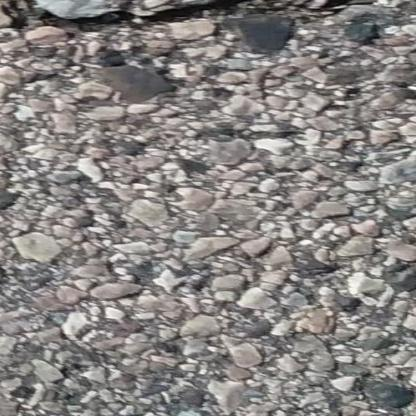Cracks: (0, 0, 416, 42)
